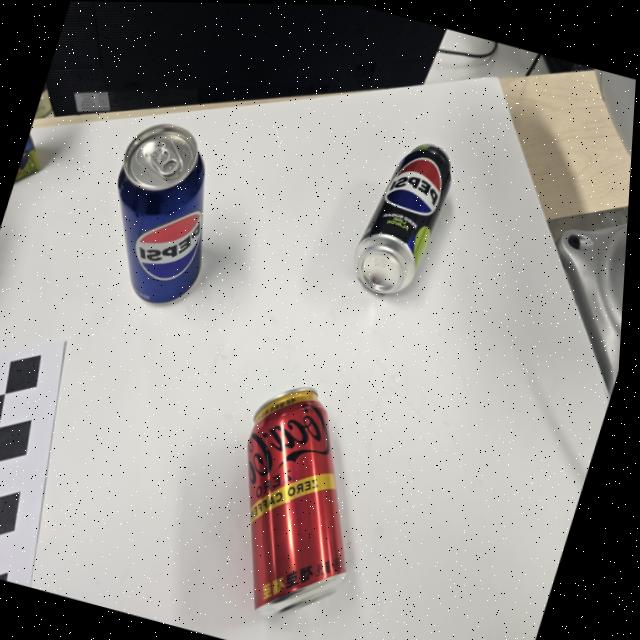can_coke_decaf: (247, 384, 344, 622)
can_pepsi: (116, 124, 205, 302)
can_pepsi_zero: (352, 145, 453, 296)
